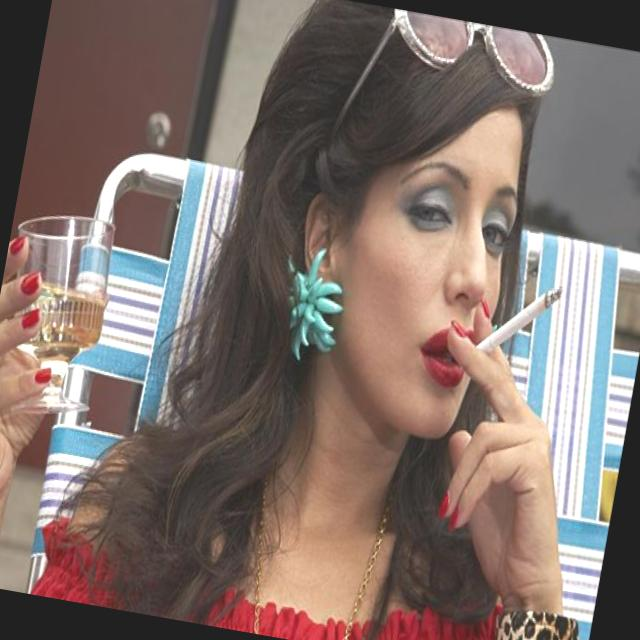smoke: (476, 277, 566, 366)
